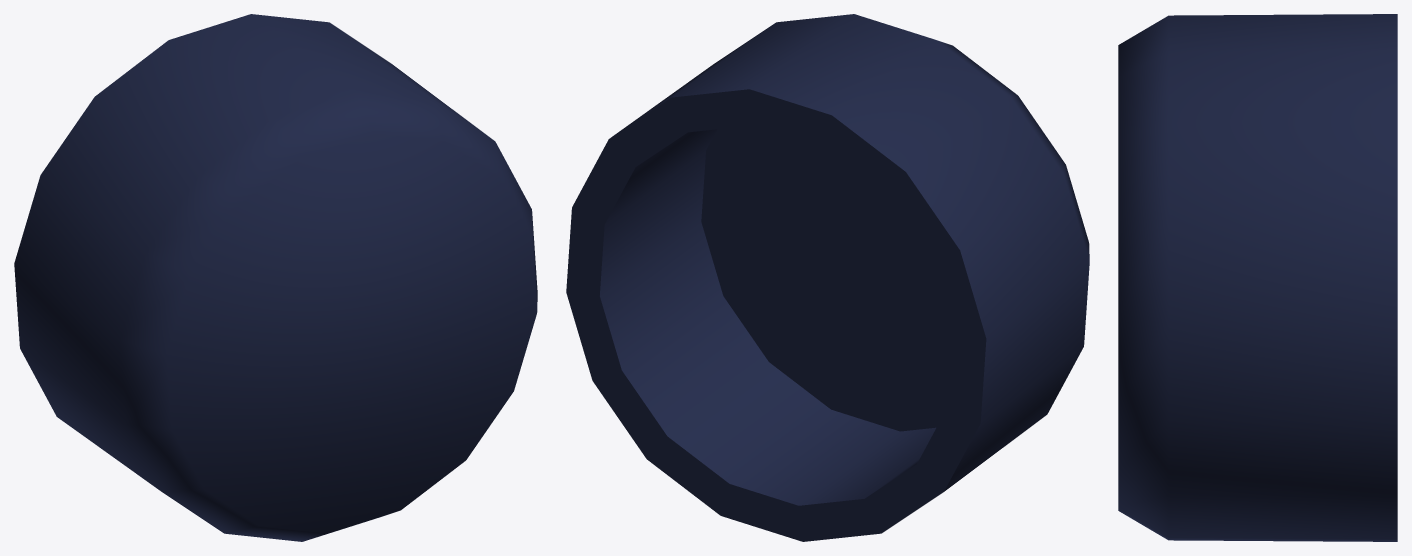
The picture shows the model from 3 angles, left to right: view 1: azimuth 30°, elevation 25°; view 2: azimuth 150°, elevation 25°; view 3: azimuth 270°, elevation 25°; orthographic projection. The views are drawn at different scales.
Size of the model in its own units: 0.159 by 0.159 by 0.0836.
